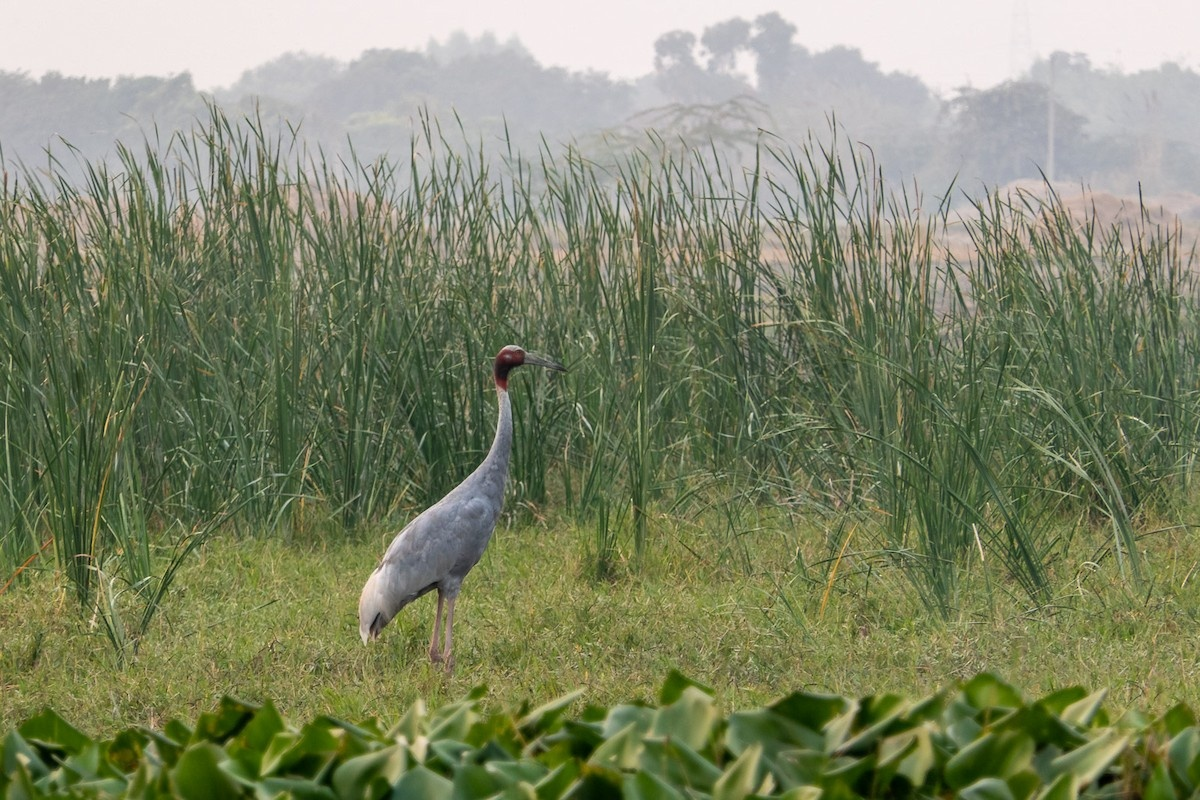crane: (334, 341, 573, 672)
